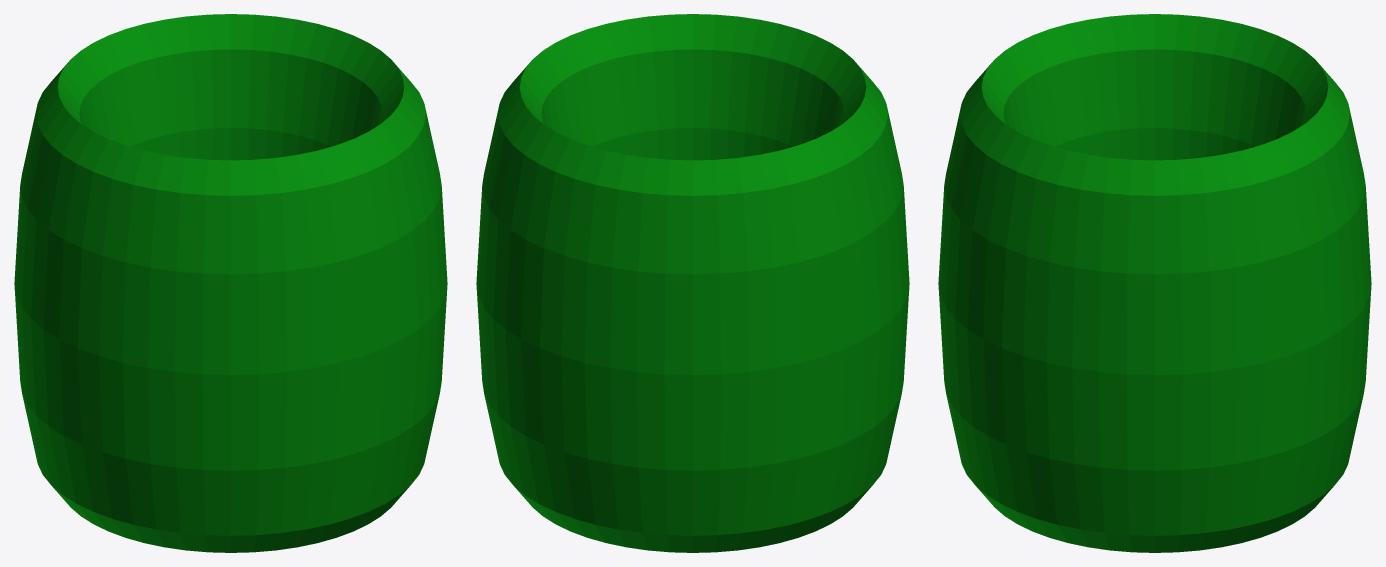
The model's file is permease.glb.
The picture shows the model from 3 angles, left to right: view 1: azimuth 30°, elevation 25°; view 2: azimuth 150°, elevation 25°; view 3: azimuth 270°, elevation 25°; orthographic projection.
Parts seen in each view (by area): view 1: Torus; view 2: Torus; view 3: Torus.
Boxes of the visible parts, <box> form: Torus: <box>14,14,447,552</box>; Torus: <box>476,14,909,552</box>; Torus: <box>938,14,1371,552</box>.
Size of the model in its own units: 0.6252 by 0.6252 by 0.6252.
